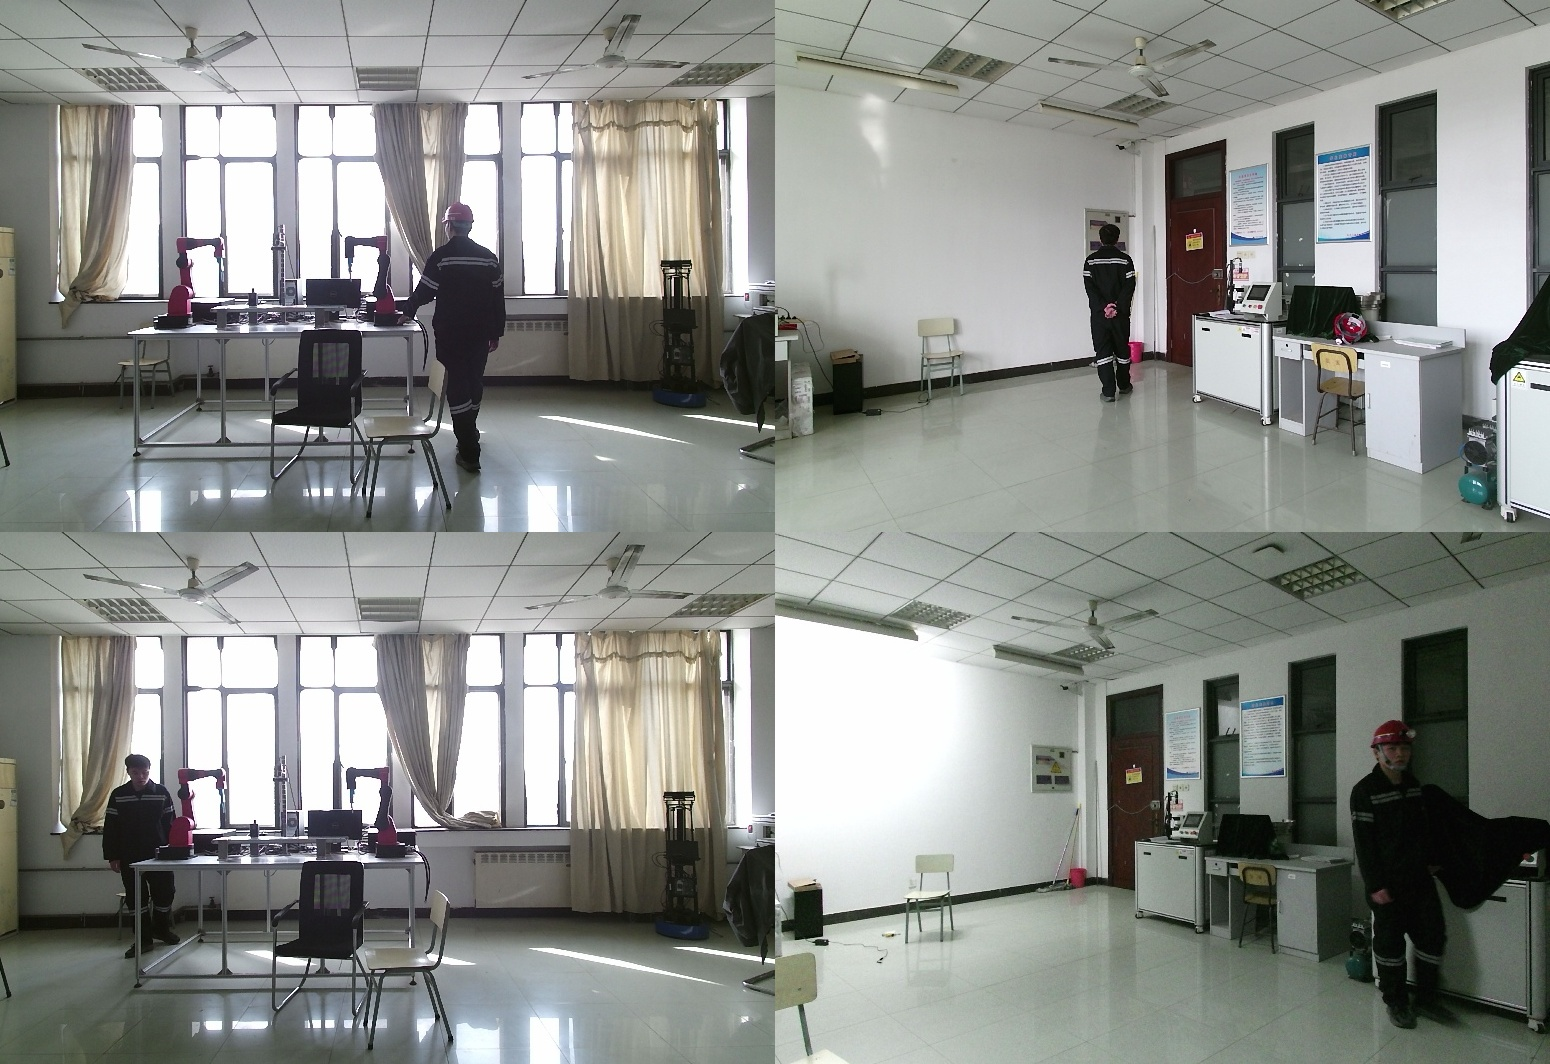person: (408, 203, 516, 478), (1349, 721, 1442, 1028), (96, 754, 185, 957), (1077, 224, 1140, 407)
